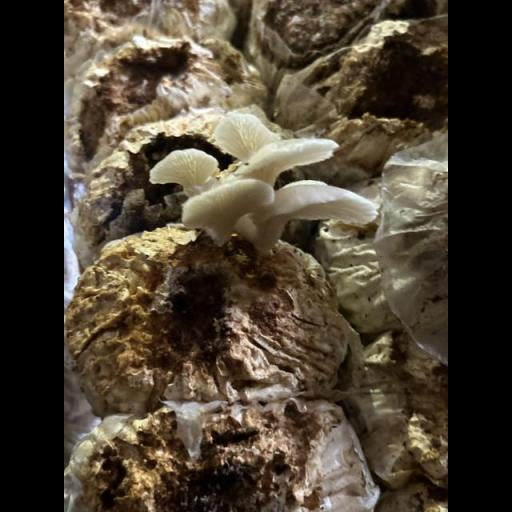White Oyster Mushroom: (156, 112, 375, 251)
